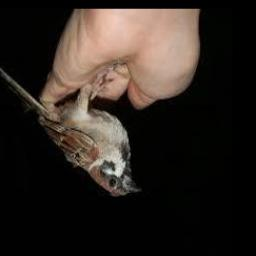Sparrow: (0, 67, 142, 199)
